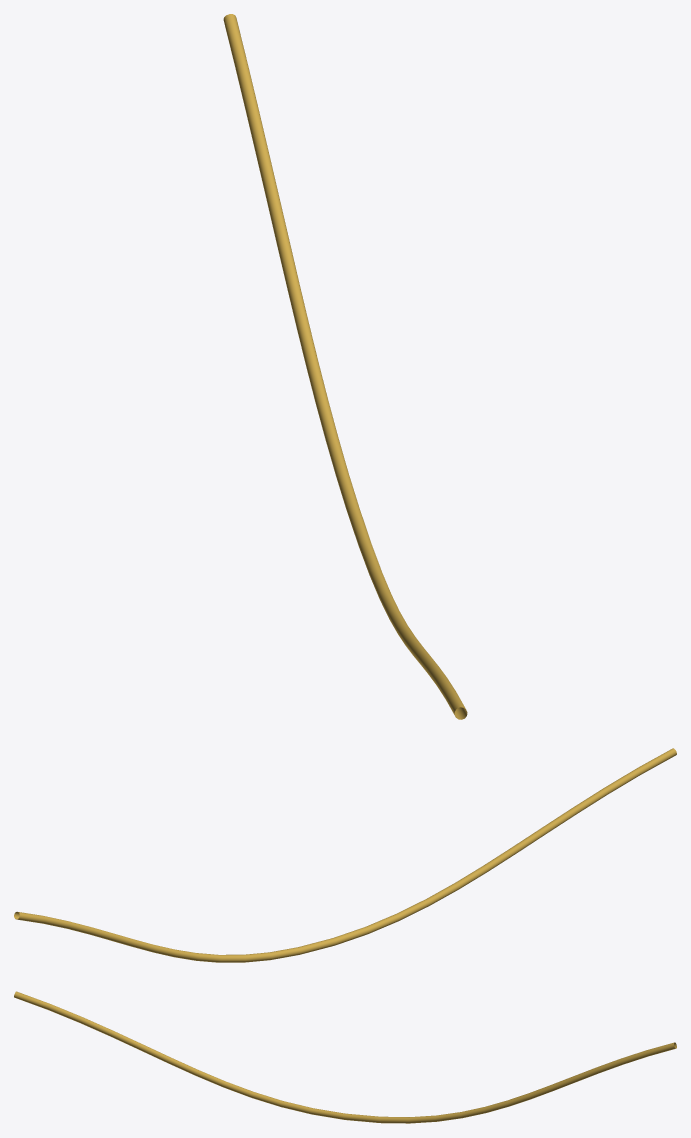
The picture shows the model from 3 angles, top to bottom: view 1: azimuth 30°, elevation 25°; view 2: azimuth 150°, elevation 25°; view 3: azimuth 270°, elevation 25°; orthographic projection. The views are drawn at different scales.
Visible parts, largest first — view 1: 右侧隐神经小腿内侧皮支; view 2: 右侧隐神经小腿内侧皮支; view 3: 右侧隐神经小腿内侧皮支.
Boxes of the visible parts, x1,y1,x2,y2 form: 右侧隐神经小腿内侧皮支: (223, 14, 467, 719); 右侧隐神经小腿内侧皮支: (14, 748, 676, 962); 右侧隐神经小腿内侧皮支: (14, 991, 676, 1123).
Bounding box in the file's own units: 0.0569 × 0.0308 × 0.1485.
